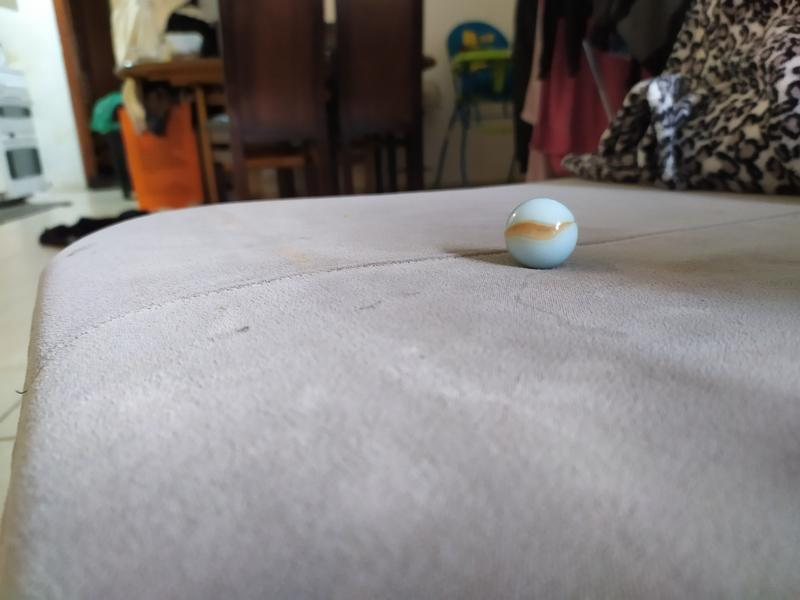Warning: (503, 195, 581, 271)
